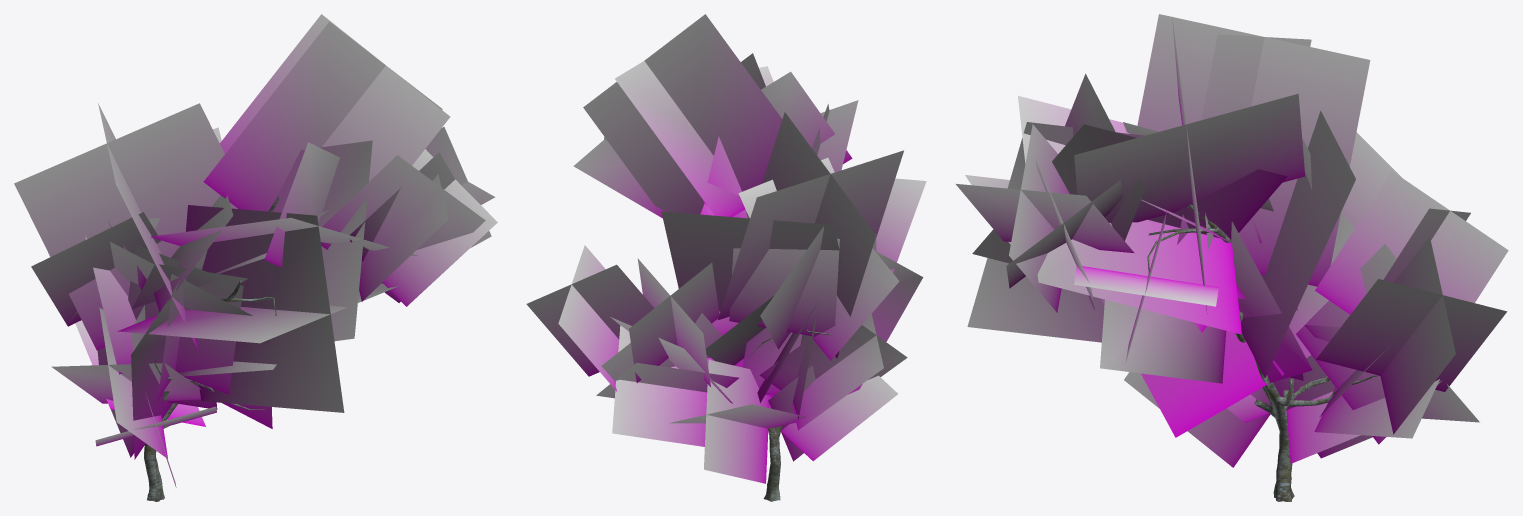
File: Tree_C.fbx
3 views of the same model, side by side, from view 1: azimuth 30°, elevation 25°; view 2: azimuth 150°, elevation 25°; view 3: azimuth 270°, elevation 25° (orthographic). The views are drawn at different scales.
Parts seen in each view (by area): view 1: Tree_C; view 2: Tree_C; view 3: Tree_C.
Boxes of the visible parts, x1,y1,x2,y2 form: Tree_C: (14,14,497,501); Tree_C: (526,14,926,501); Tree_C: (955,14,1508,501).
Size of the model in its own units: 2582 by 2963 by 2696.
